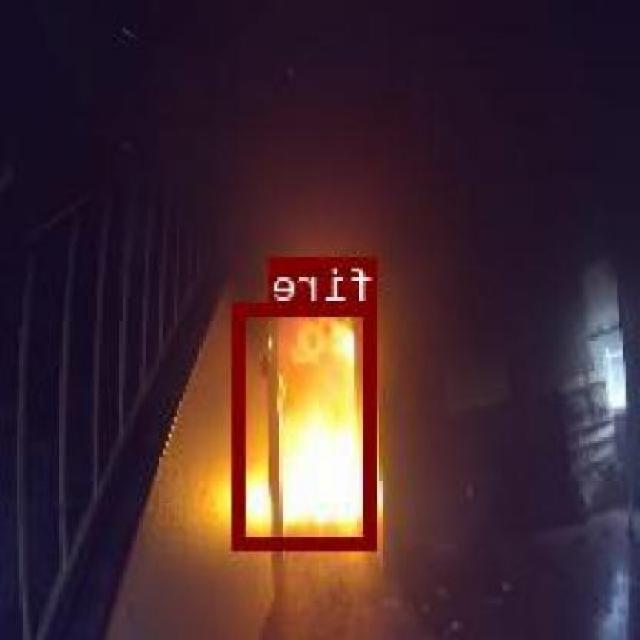Fire: (235, 302, 378, 547)
